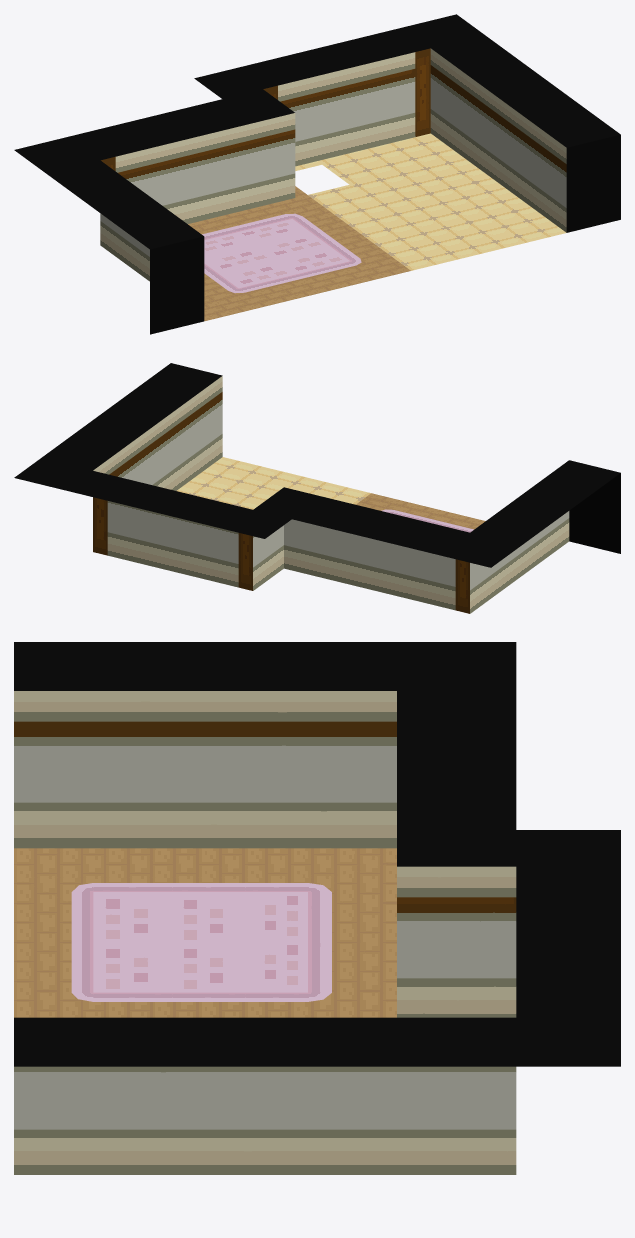
Rendered from ROOM10.obj.
The picture shows the model from 3 angles, top to bottom: view 1: azimuth 30°, elevation 25°; view 2: azimuth 150°, elevation 25°; view 3: azimuth 270°, elevation 25°; orthographic projection. The views are drawn at different scales.
Parts seen in each view (by area): view 1: polygon3, polygon4, polygon2, polygon0, polygon1; view 2: polygon3, polygon4, polygon2, polygon1, polygon0; view 3: polygon3, polygon4, polygon1, polygon0.
Part boxes in pixels (<box>): polygon3: <box>100,48,566,281</box>; polygon4: <box>14,14,620,334</box>; polygon2: <box>295,133,566,270</box>; polygon0: <box>202,213,361,293</box>; polygon1: <box>188,186,410,321</box>; polygon3: <box>93,376,569,613</box>; polygon4: <box>14,363,620,567</box>; polygon2: <box>177,457,370,509</box>; polygon1: <box>356,493,485,529</box>; polygon0: <box>381,509,473,532</box>; polygon3: <box>14,691,516,1174</box>; polygon4: <box>14,642,620,1066</box>; polygon1: <box>14,848,396,1017</box>; polygon0: <box>71,883,331,1001</box>.
Size of the model in its own units: 4.34 by 0.75 by 2.62.
Materials: 5 (5 with a texture image).
